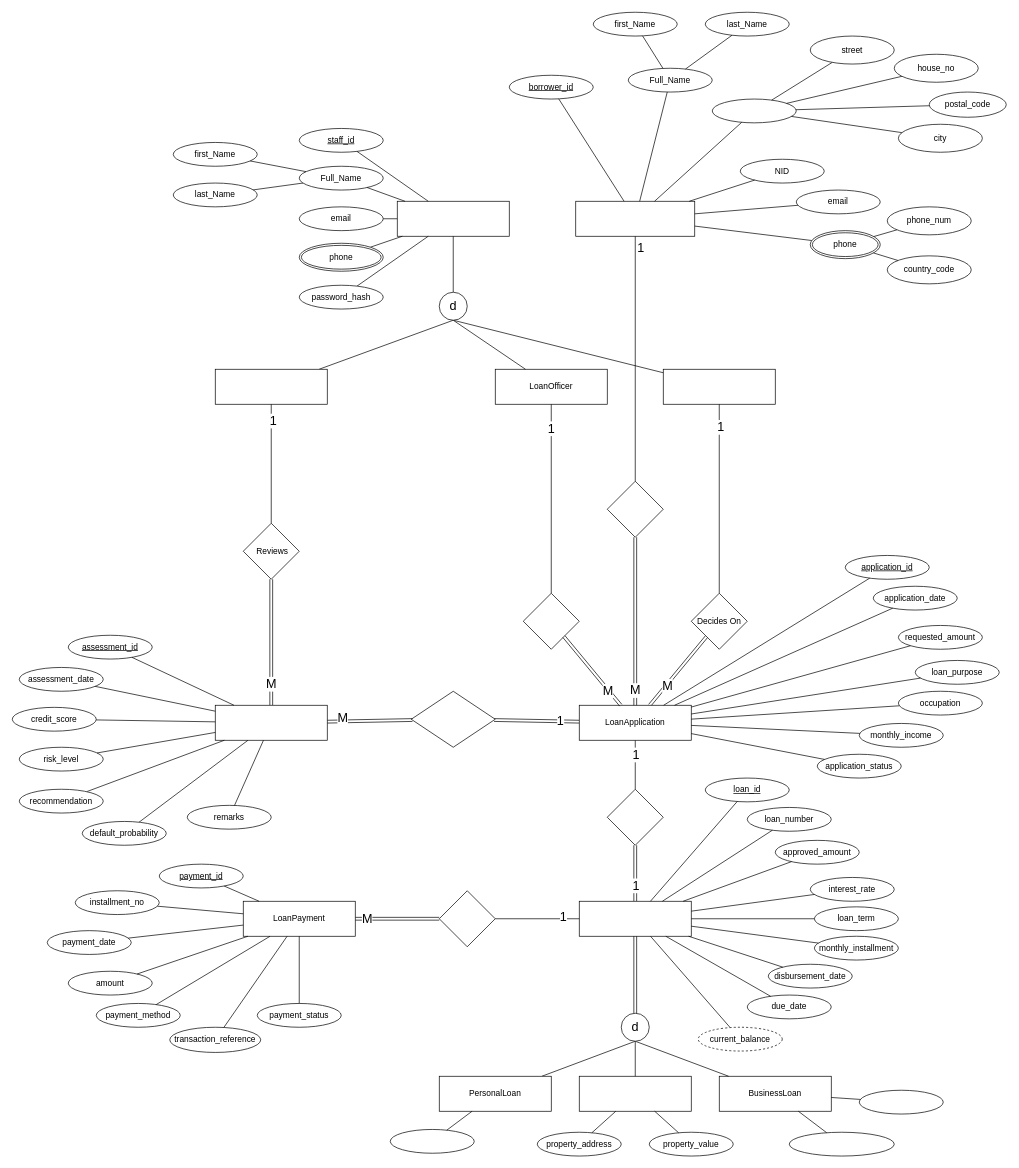
Image size: 1019x1168. Some labels were removed from this diagram. The box of each missing label's shape, as (x1, y1, x2, y2) in pixels:
Address: (712, 98, 796, 123)
Applies For: (607, 481, 663, 537)
BankStaff: (397, 201, 509, 236)
Borrower: (575, 201, 695, 236)
BranchManager: (663, 369, 775, 404)
business_name: (859, 1090, 943, 1114)
CreditAnalyst: (215, 369, 327, 404)
CreditAssessment: (215, 705, 327, 740)
HomeLoan: (579, 1076, 691, 1111)
Is Assessed As: (411, 691, 495, 747)
Loan: (579, 901, 691, 936)
Processes: (523, 593, 579, 649)
purpose_category: (390, 1129, 474, 1153)
Receives: (439, 890, 495, 947)
Results In: (607, 789, 663, 845)
trade_license_number: (789, 1132, 894, 1156)
